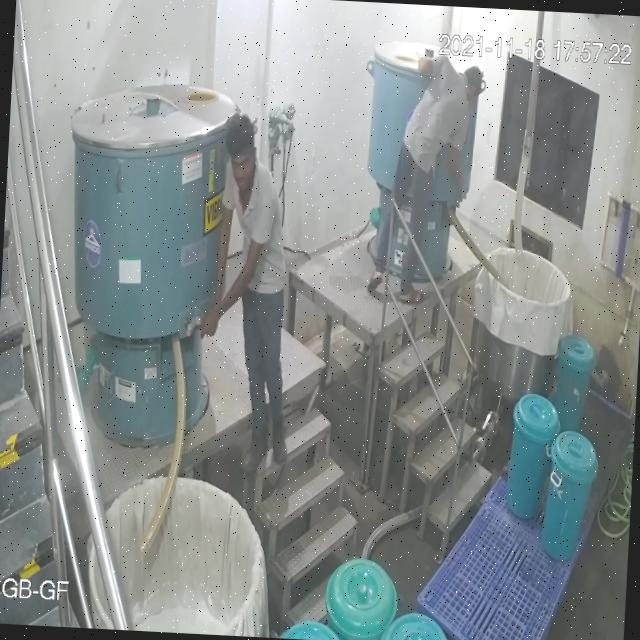boots: (268, 418, 292, 470)
no-boots: (398, 287, 426, 310)
